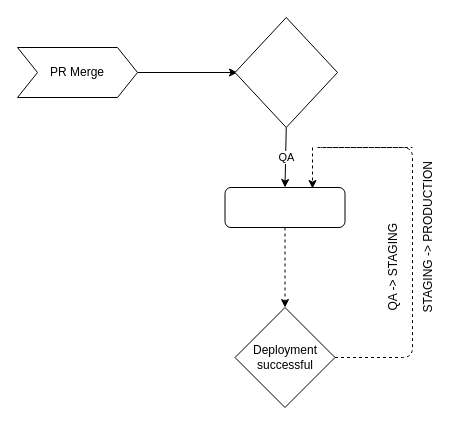
The diagram is 456 pixels wide and 425 high, and some of its shapes have lost their labels. The centre of each missing label's shape, as x and y in pixels:
BUILD: point 286,72
Start Deployment: point 284,207
